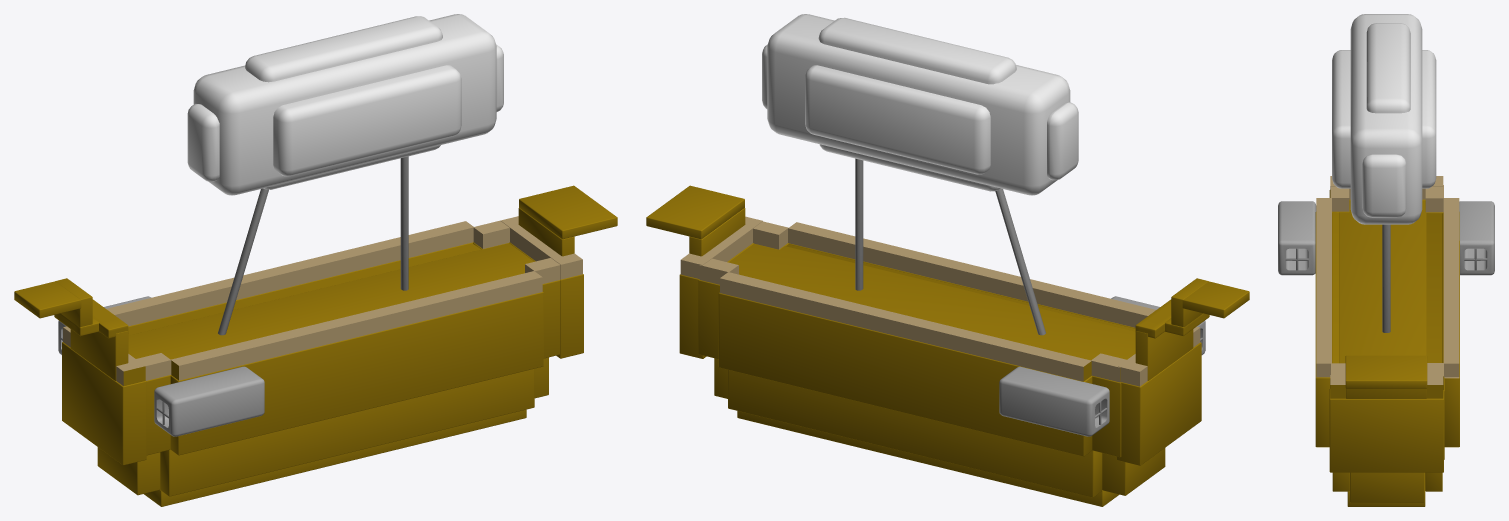
The model's file is airship.gltf.
3 renders of one model, left to right at view 1: azimuth 30°, elevation 25°; view 2: azimuth 150°, elevation 25°; view 3: azimuth 270°, elevation 25°, orthographic. The views are drawn at different scales.
Parts seen in each view (by area): view 1: Ship-Mat.2, Blimp, Ship-Mat.3 (×2), Cube.7, Jet-Mat.1, Support.2, Support.1; view 2: Ship-Mat.2, Blimp, Ship-Mat.3 (×3), Cube.7, Jet-Mat.1, Support.2, Support.1; view 3: Ship-Mat.2, Blimp, Cube.7, Ship-Mat.3 (×2), Jet-Mat.1 (×2), Support.1, Jet-Mat.
Boxes of the visible parts, x1,y1,x2,y2 form: Ship-Mat.2: [14, 185, 617, 506]; Blimp: [187, 16, 503, 189]; Ship-Mat.3 (×2): [106, 216, 582, 380]; Cube.7: [193, 14, 496, 195]; Jet-Mat.1: [58, 296, 264, 436]; Support.2: [218, 188, 268, 335]; Support.1: [400, 156, 408, 290]; Ship-Mat.2: [646, 185, 1249, 506]; Blimp: [762, 17, 1078, 191]; Ship-Mat.3 (×3): [680, 216, 1200, 386]; Cube.7: [767, 14, 1070, 195]; Jet-Mat.1: [999, 296, 1205, 436]; Support.2: [995, 188, 1045, 335]; Support.1: [855, 158, 863, 290]; Ship-Mat.2: [1315, 190, 1459, 506]; Blimp: [1332, 23, 1436, 217]; Cube.7: [1350, 14, 1422, 224]; Ship-Mat.3 (×2): [1316, 185, 1459, 384]; Jet-Mat.1 (×2): [1278, 201, 1494, 275]; Support.1: [1382, 224, 1390, 332]; Jet-Mat: [1285, 248, 1487, 270].
Size of the model in its own units: 4028 by 2704 by 1424.
